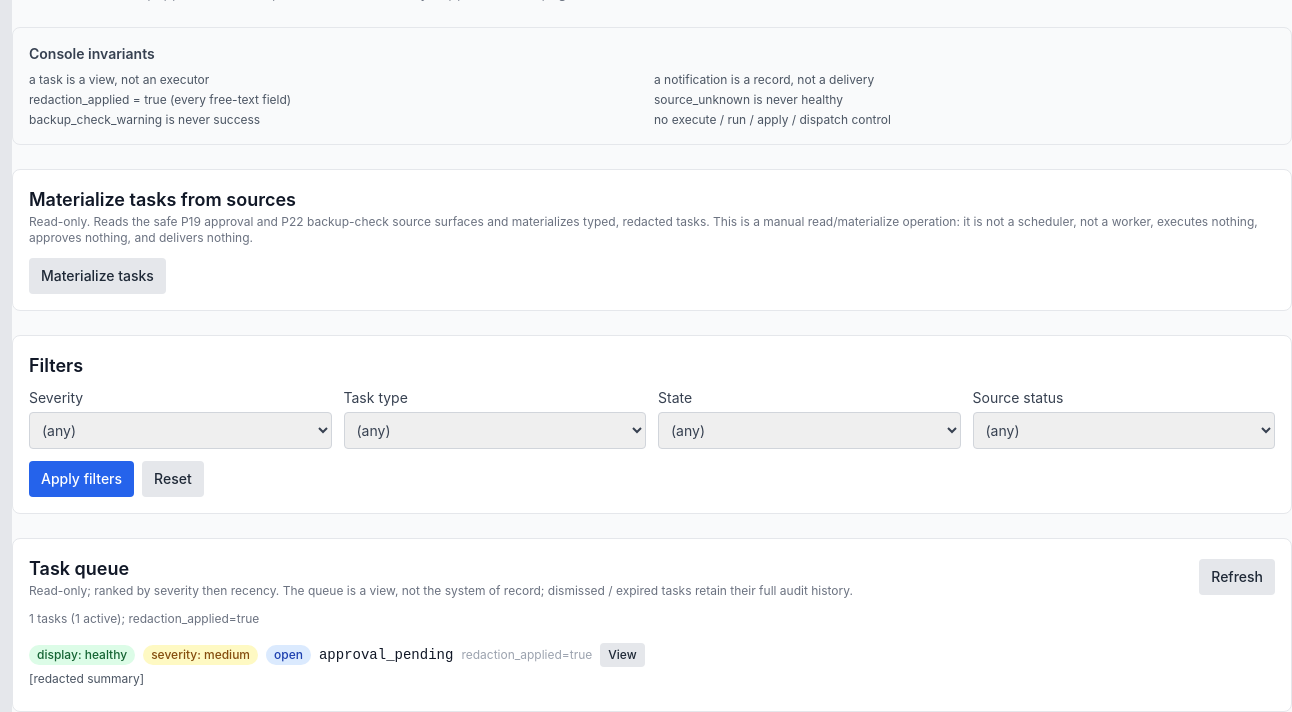
Scenario: PlatformOperatorTasksPage › complete is disabled until evidence and confirmation are provided
(page scrolled)
Expected: the list item with test id "ot-queue-item" is shown, [29,643,645,686]
Click the button with test id "ot-view-btn" at (622, 655), box [600,643,645,667]
(page scrolled)
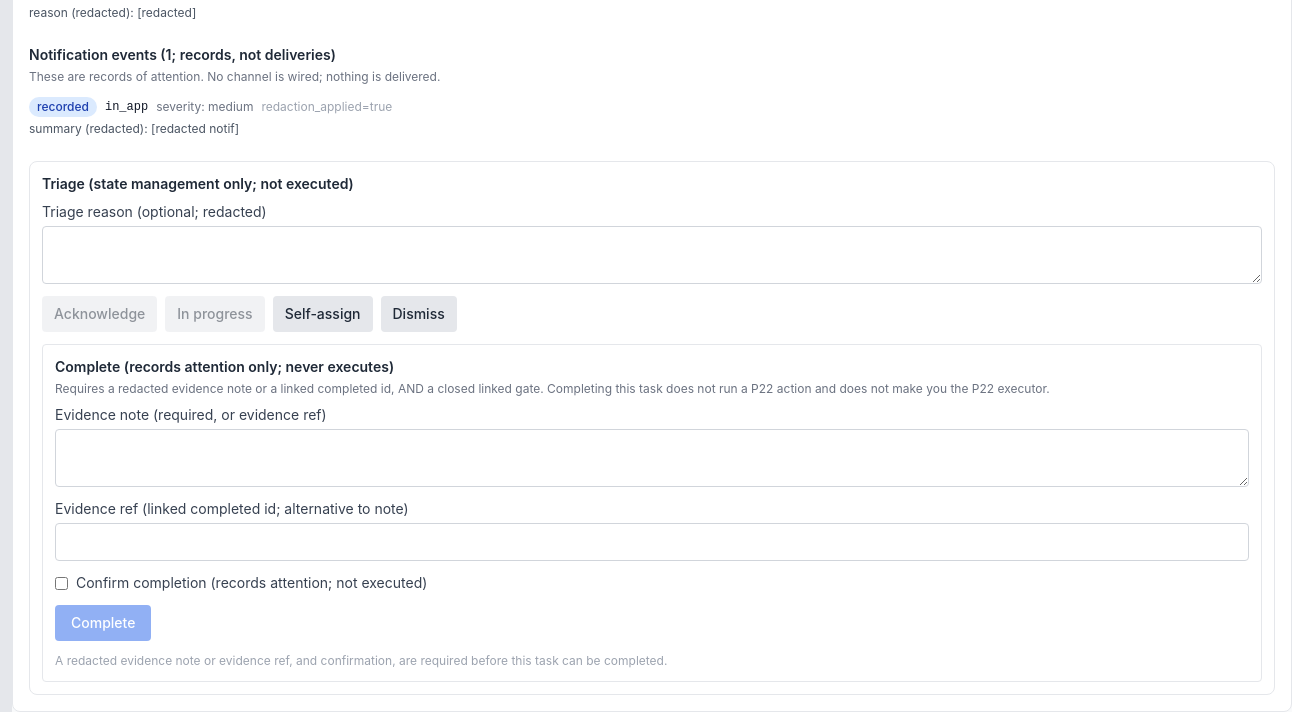
Expected: the element with test id "ot-complete" is shown, [42,344,1262,682]
Expected: the button with test id "ot-complete-btn" is disabled, [55,605,151,641]
Type "checked source" into the text box with test id "ot-evidence-input" at (652, 458), box [55,429,1249,487]
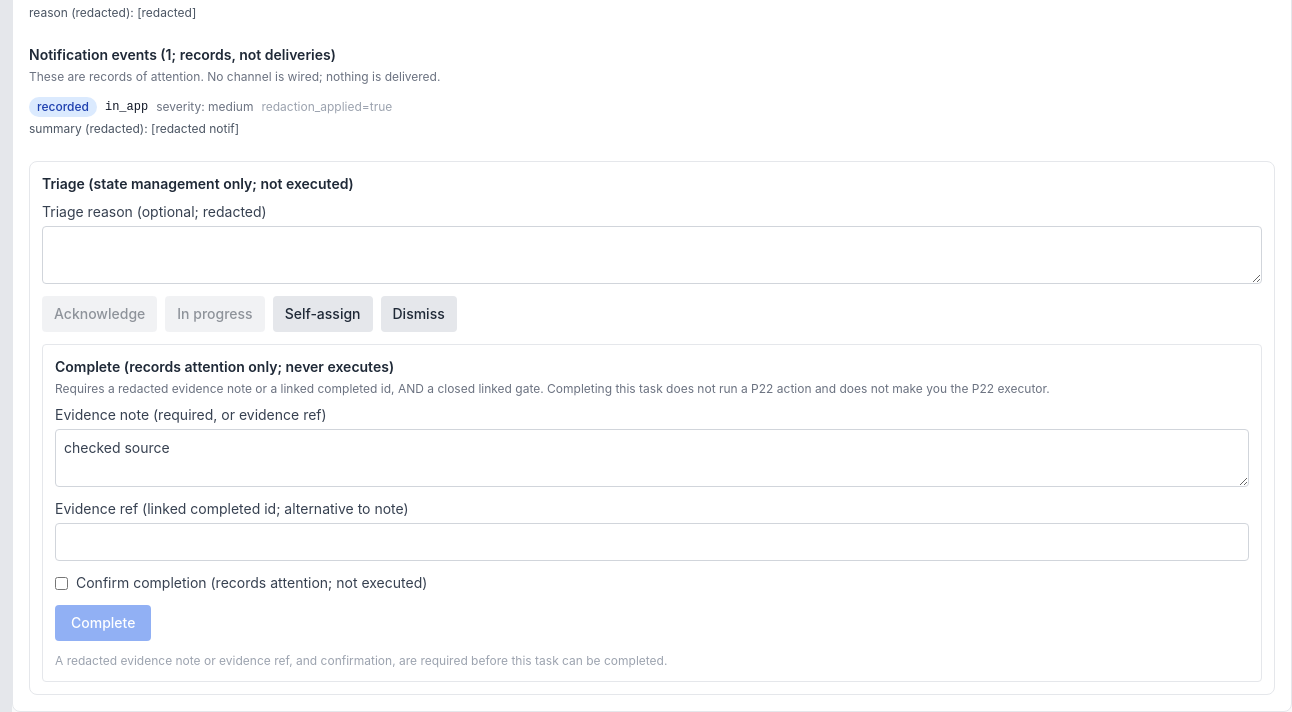
Expected: the button with test id "ot-complete-btn" is disabled, [55,605,151,641]
Click the checkbox with test id "ot-complete-confirm" at (62, 583), box [55,576,68,590]
(page scrolled)
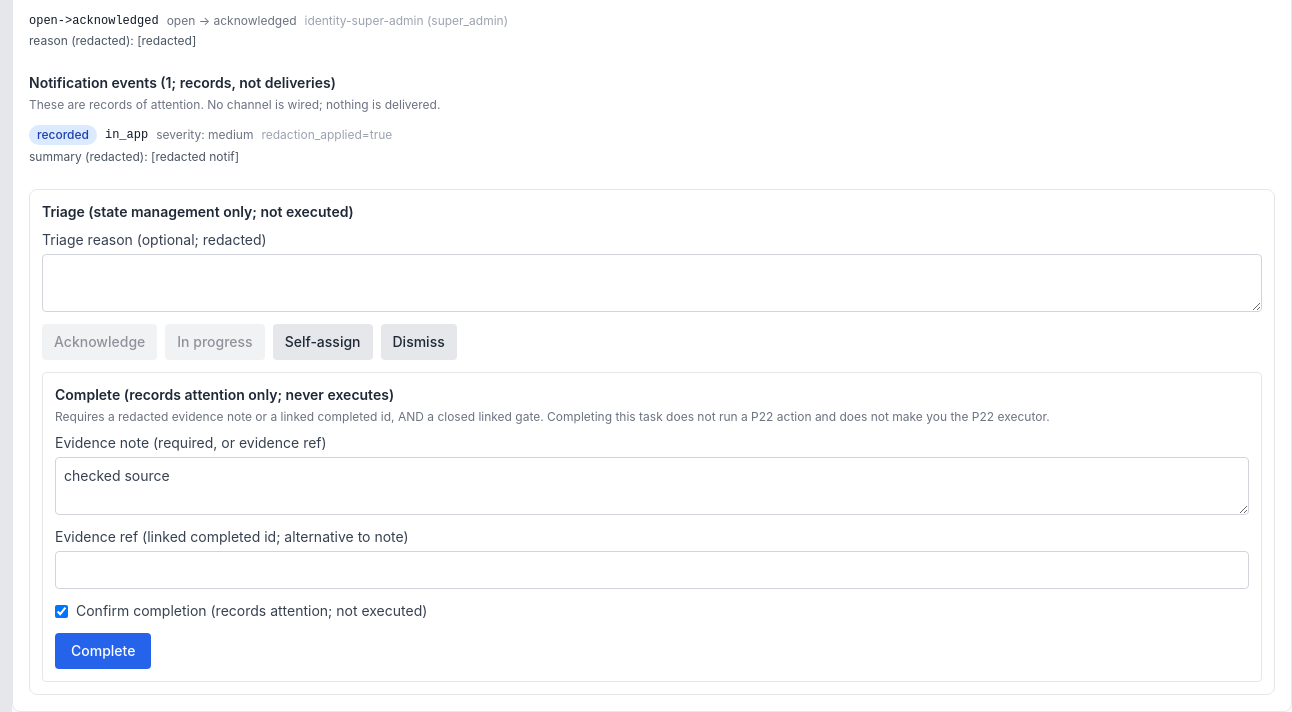
Expected: the button with test id "ot-complete-btn" is enabled, [55,633,151,669]
